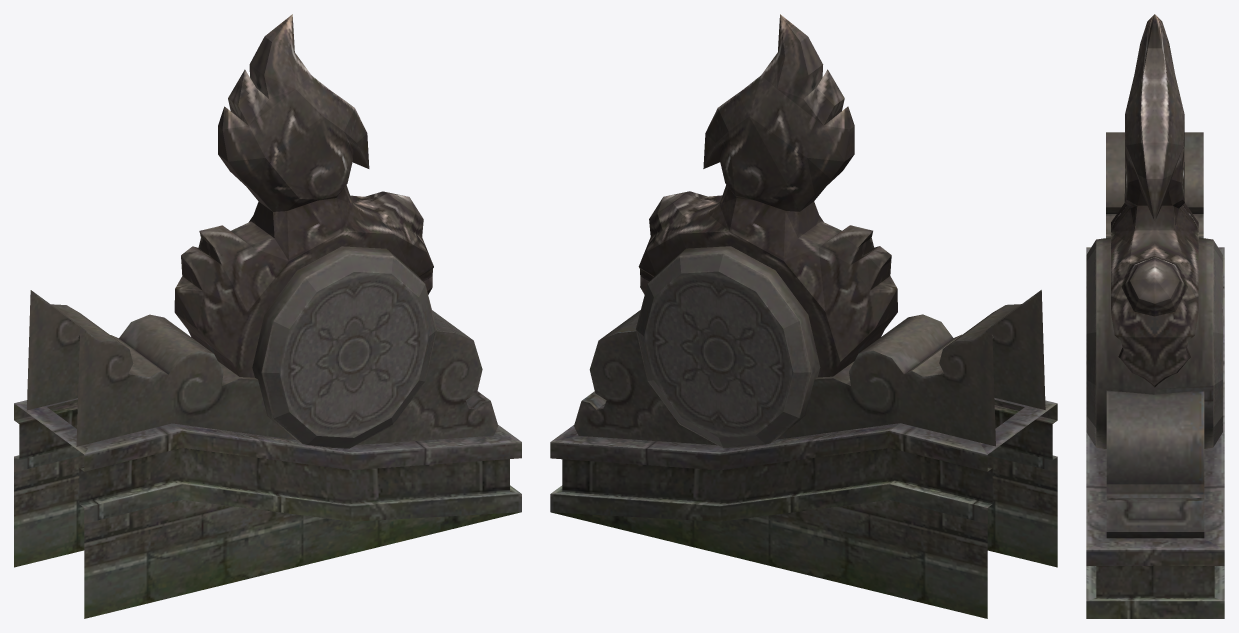
The model's file is jz_yuanmen02_53_58_4649out.fbx.
The picture shows the model from 3 angles, left to right: view 1: azimuth 30°, elevation 25°; view 2: azimuth 150°, elevation 25°; view 3: azimuth 270°, elevation 25°; orthographic projection.
Visible parts, largest first — view 1: jz_yuanmen02; view 2: jz_yuanmen02; view 3: jz_yuanmen02.
Part boxes in pixels (x1,y1,x2,y2): jz_yuanmen02: [14, 14, 521, 618]; jz_yuanmen02: [550, 14, 1057, 618]; jz_yuanmen02: [1086, 14, 1224, 618].
Size of the model in its own units: 4.31 by 4.89 by 1.2.
